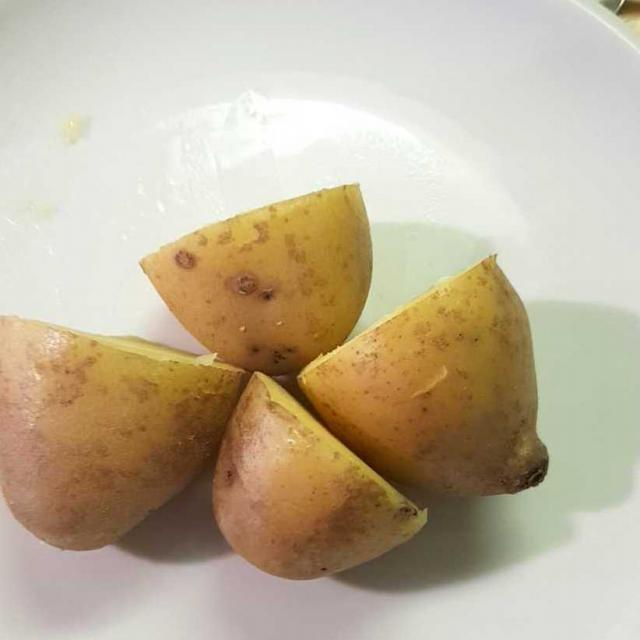potatoes: (14, 161, 580, 608)
